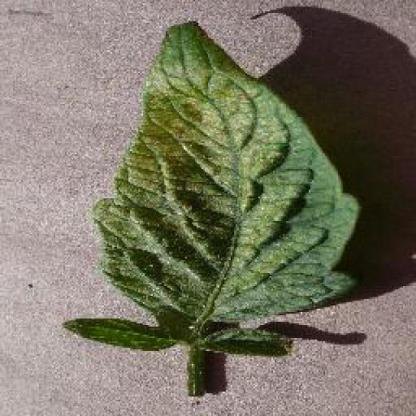Tomato_Spider_Mites: (98, 21, 360, 310)
